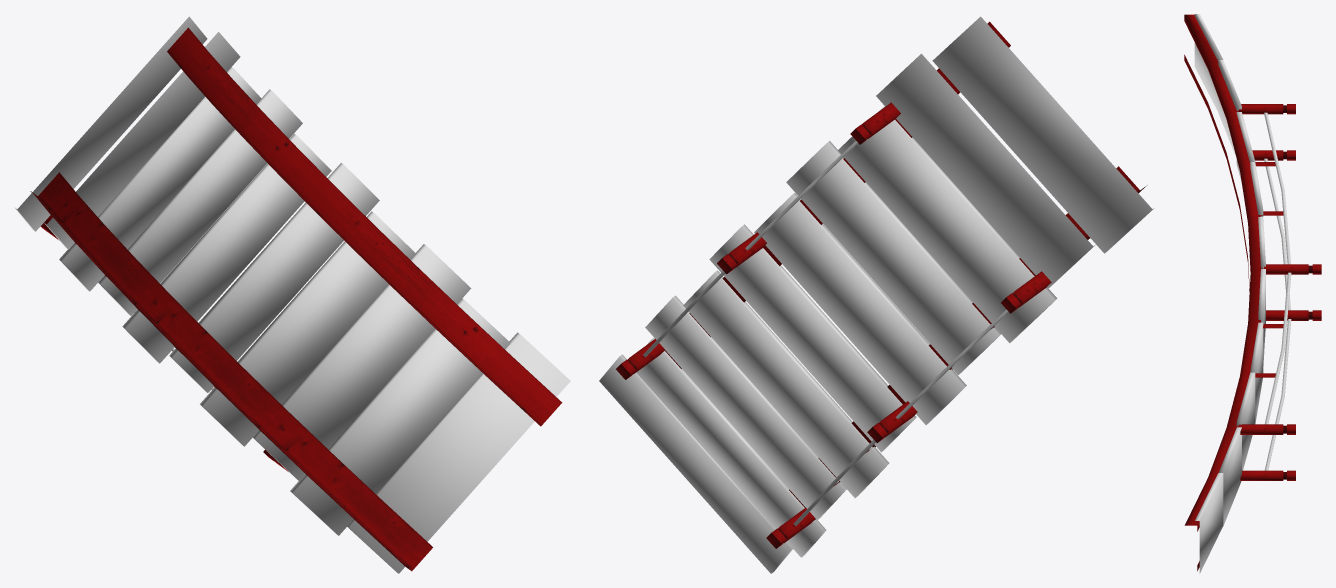
The model's file is bridge_LOD50.glb.
3 renders of one model, left to right at view 1: azimuth 30°, elevation 25°; view 2: azimuth 150°, elevation 25°; view 3: azimuth 270°, elevation 25°, orthographic. The views are drawn at different scales.
Parts seen in each view (by area): view 1: stktex_generic_WoodA.png__, japanRedWood.jpg__, JapanwoodBridge.jpg__; view 2: stktex_generic_WoodA.png__, japanRedWood.jpg__, JapanwoodBridge.jpg__; view 3: japanRedWood.jpg__, stktex_generic_WoodA.png__.
Boxes of the visible parts, x1,y1,x2,y2 form: stktex_generic_WoodA.png__: (14, 16, 570, 573); japanRedWood.jpg__: (38, 27, 562, 570); JapanwoodBridge.jpg__: (30, 191, 409, 569); stktex_generic_WoodA.png__: (599, 16, 1154, 573); japanRedWood.jpg__: (621, 21, 1139, 548); JapanwoodBridge.jpg__: (616, 128, 1145, 548); japanRedWood.jpg__: (1184, 14, 1321, 571); stktex_generic_WoodA.png__: (1194, 14, 1291, 573).
Bounding box in the file's own units: 19.73 × 20.73 × 5.37.
3 materials, 2 textured.
